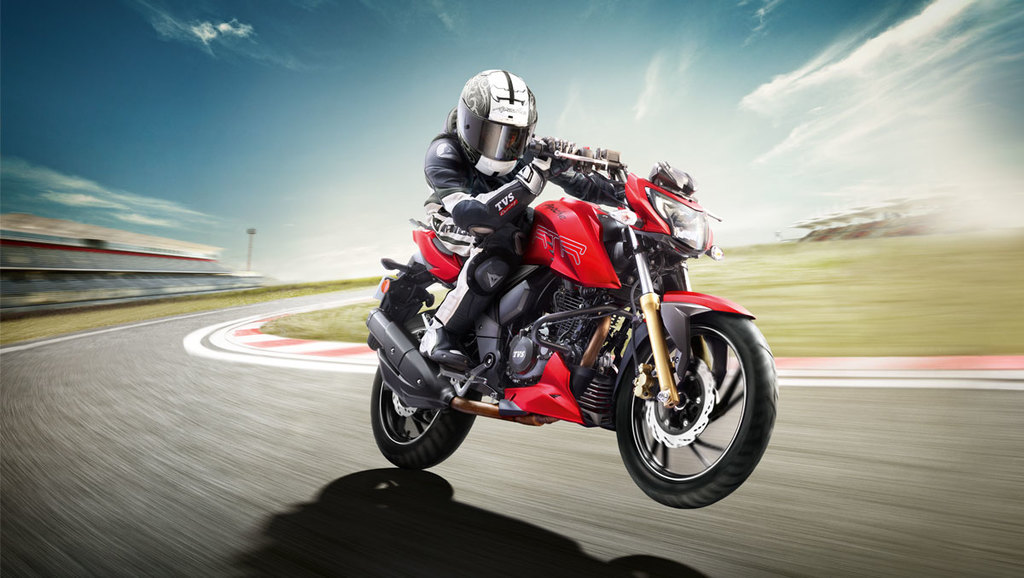helmet: (455, 70, 539, 159)
